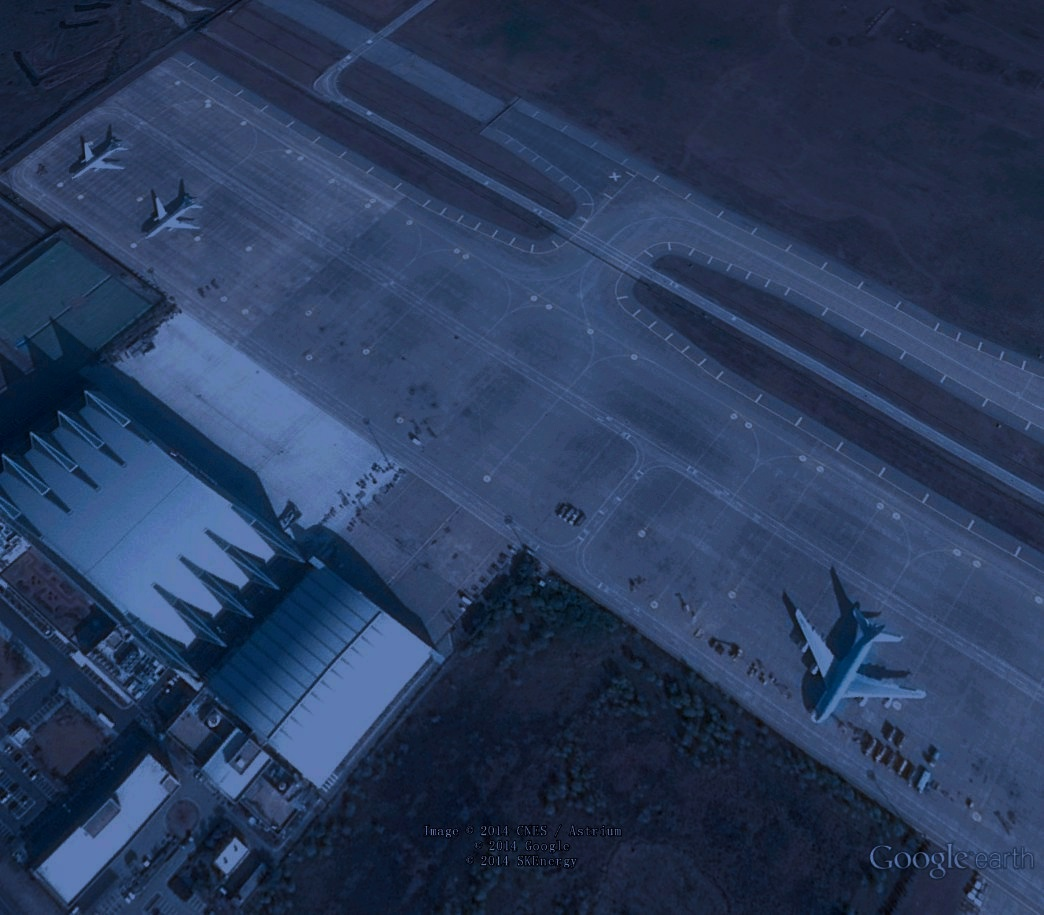aircraft: (784, 598, 934, 727), (141, 186, 205, 244), (69, 133, 129, 184)
